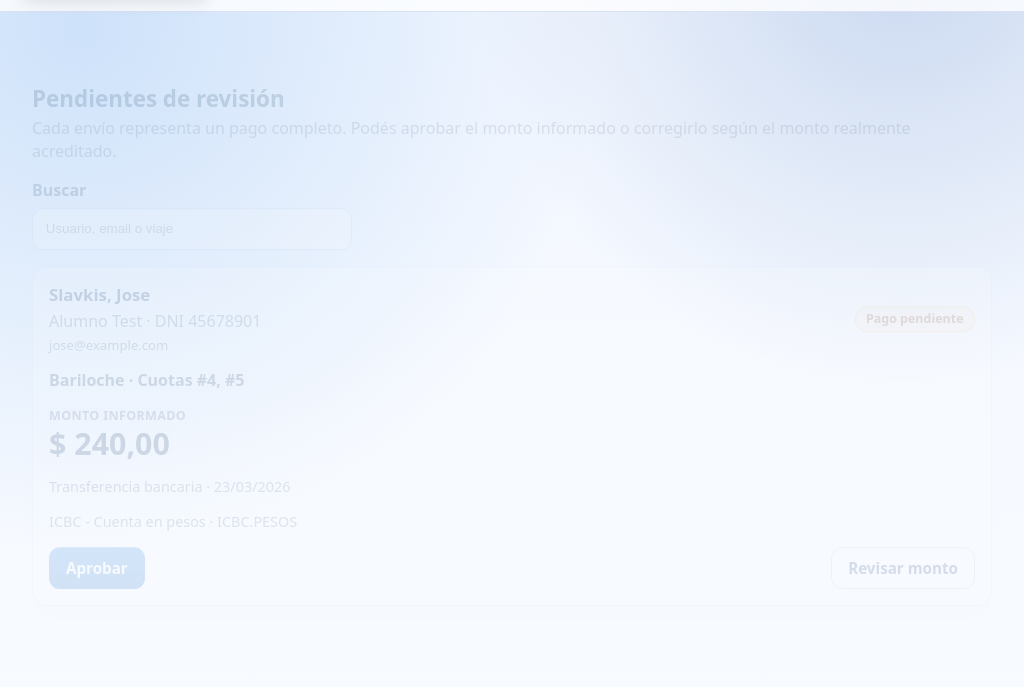
Scenario: PendingReviewPage amount slider › moving the slider up syncs the input with an optional observation
Expected: the heading "Slavkis, Jose" is shown, left=49, top=283, right=150, bottom=306
Click the button "Revisar monto": (903, 568) left=831, top=547, right=975, bottom=589
(page scrolled)
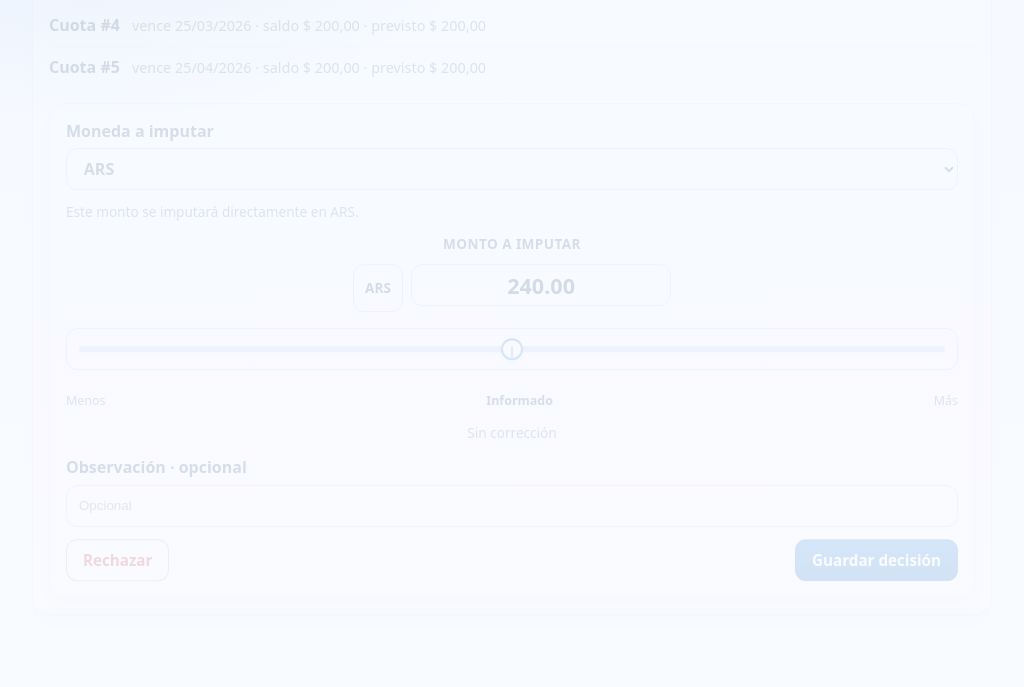
Set the slider named "Corregir monto con barra deslizante" to "625": (622, 349) left=66, top=328, right=958, bottom=370
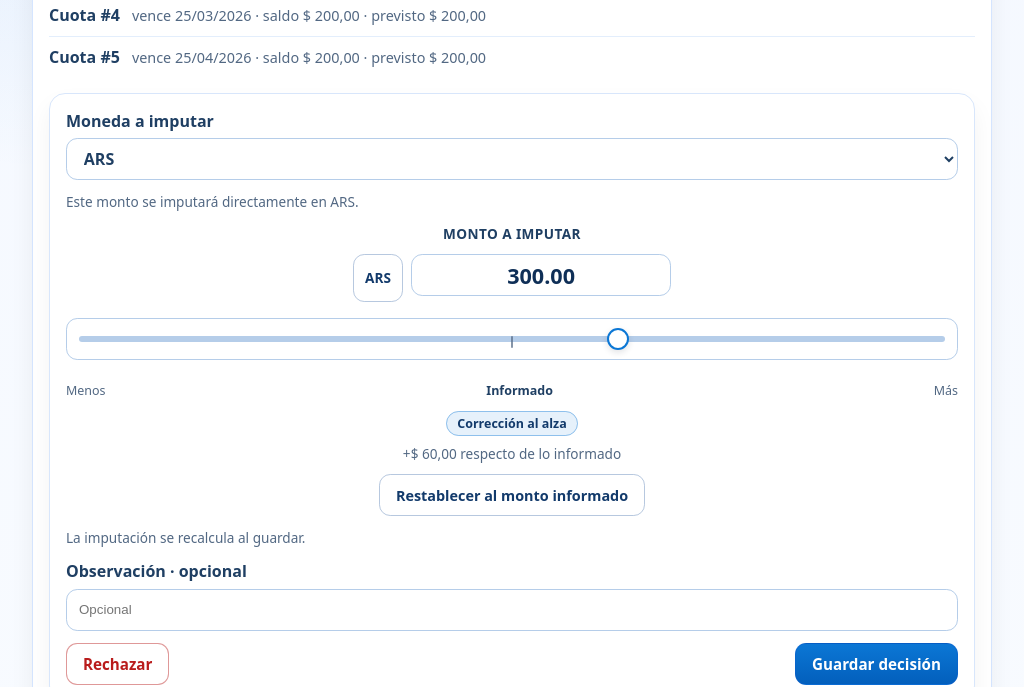
Expected: the field named "Monto a imputar" holds "300.00", left=411, top=254, right=671, bottom=296
Expected: the text "Corrección al alza" is shown, left=446, top=411, right=578, bottom=436
Expected: the text "+$ 60,00 respecto de lo informado" is shown, left=403, top=444, right=621, bottom=464
